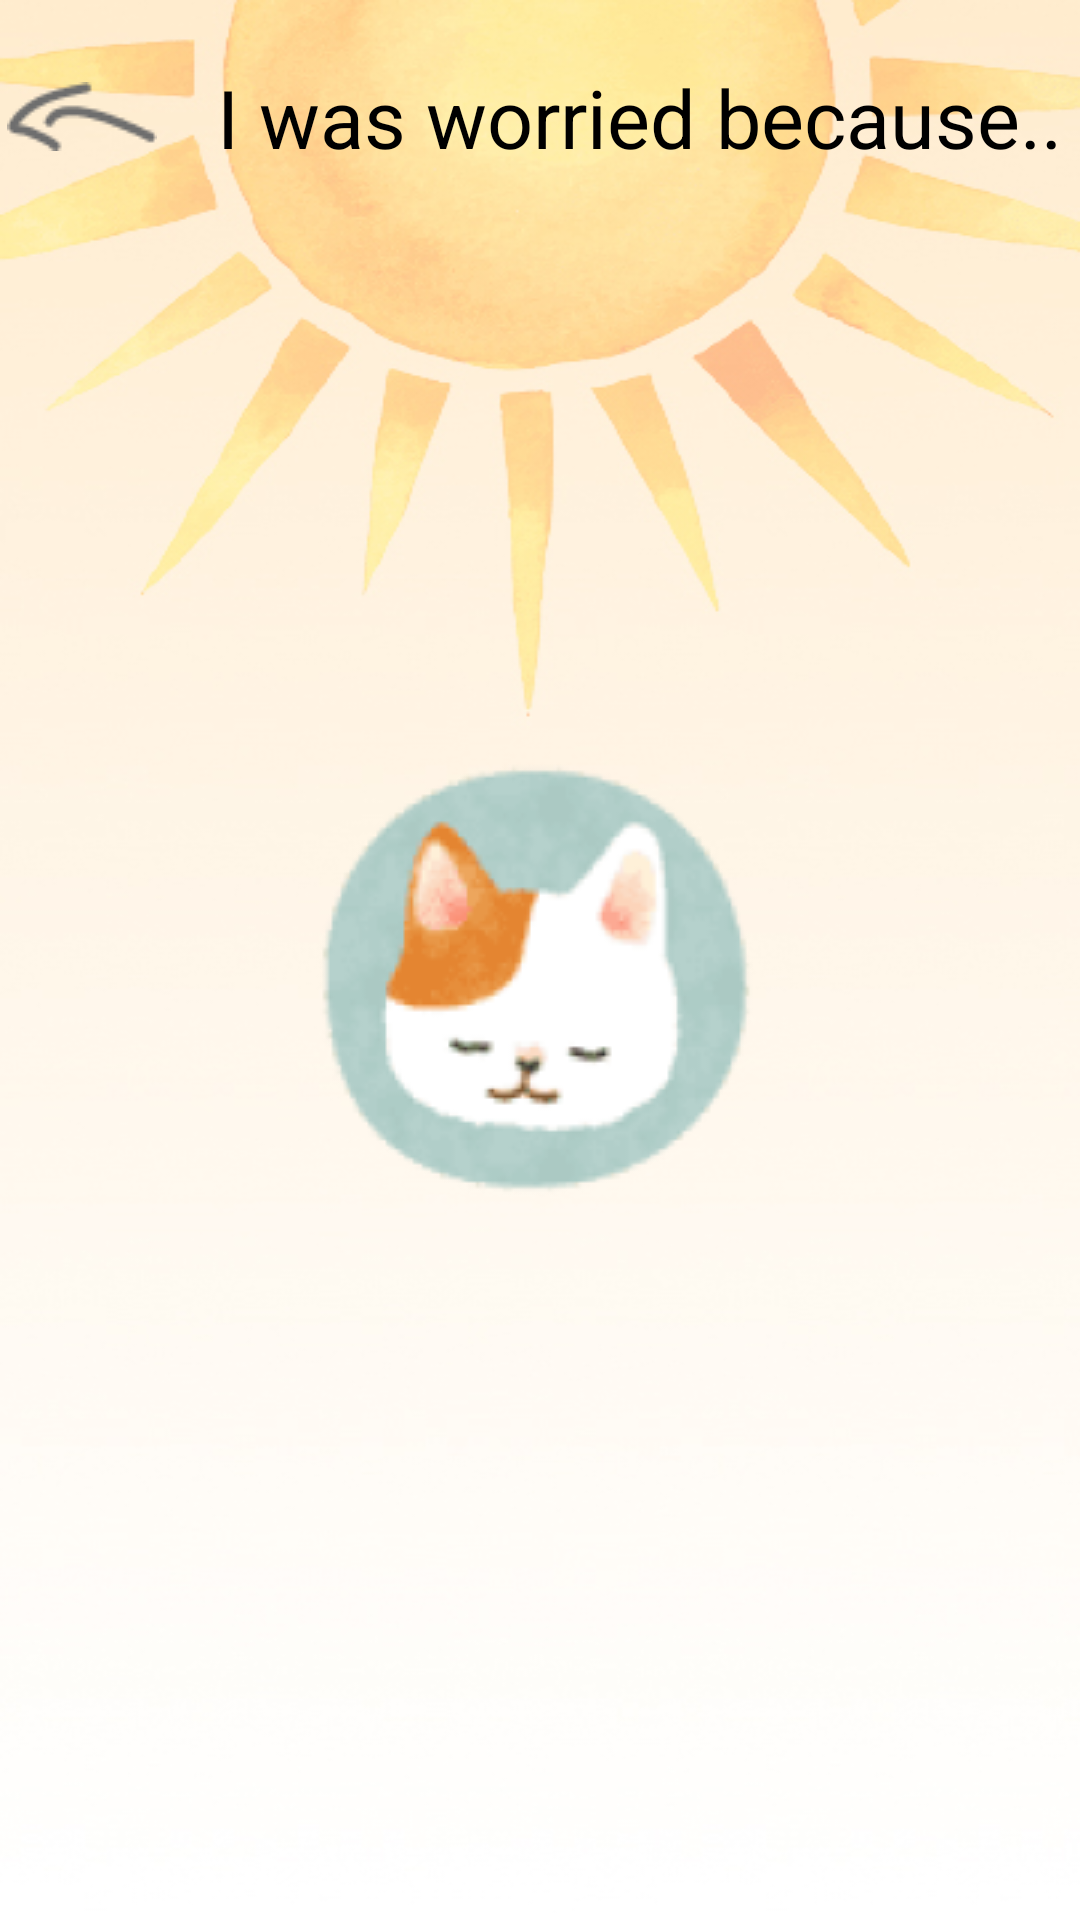

Named icons in this screenshot (1080px x 1920px) and their centers, (x,y):
back: (82,116)
